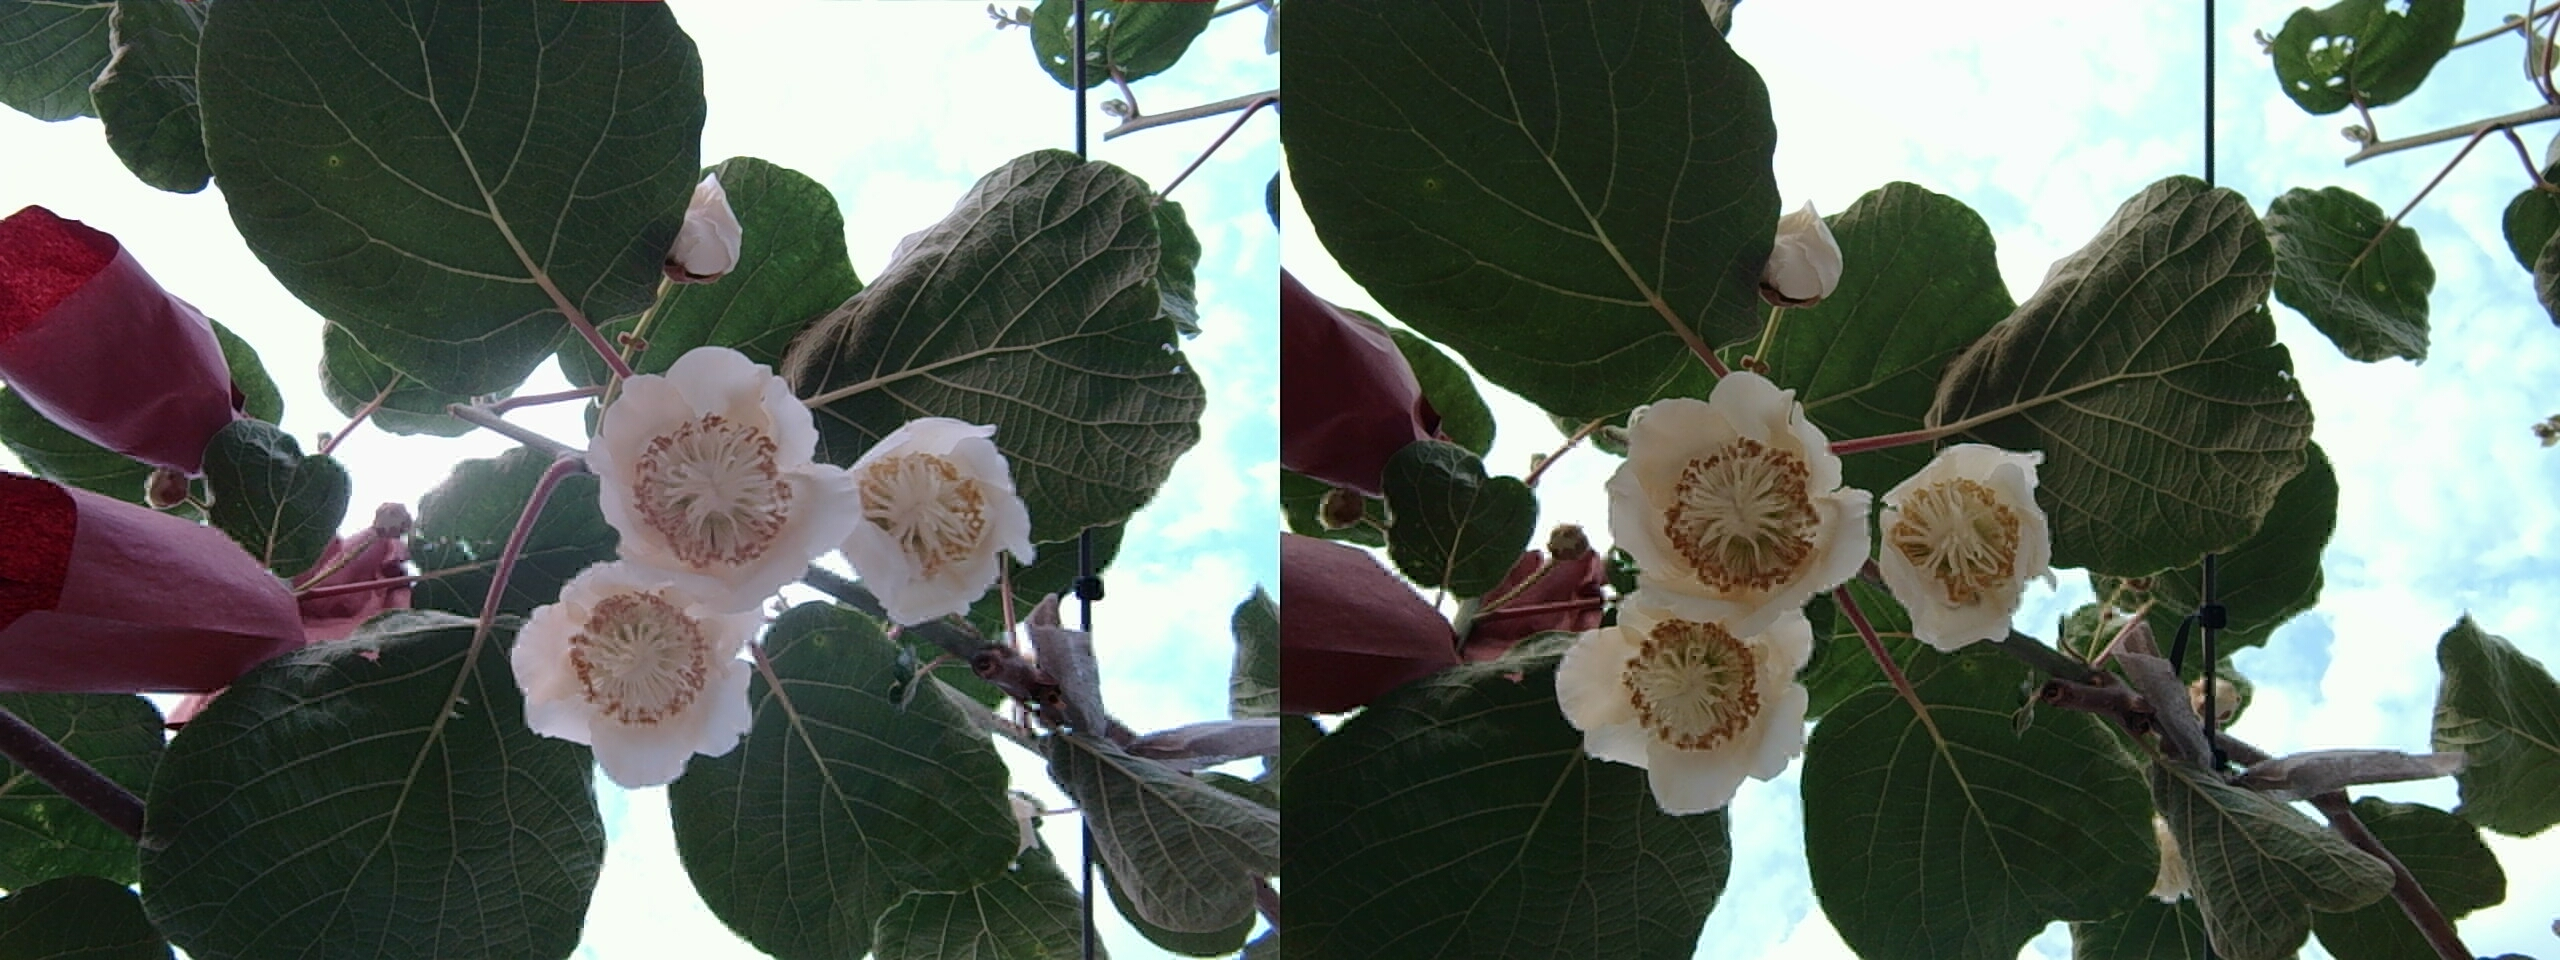flower: (583, 340, 839, 594), (504, 553, 771, 789), (1610, 372, 1860, 614), (1554, 581, 1816, 802), (1861, 429, 2056, 647), (831, 407, 1029, 619)
